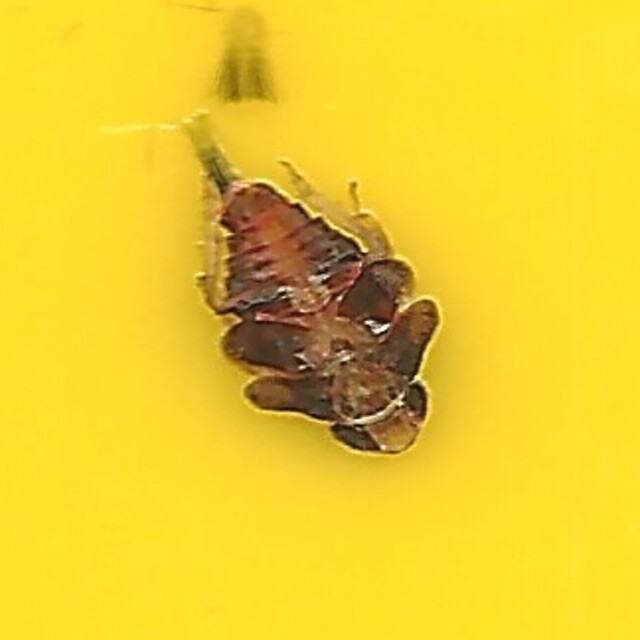Hemiptera: (198, 175, 442, 465)
